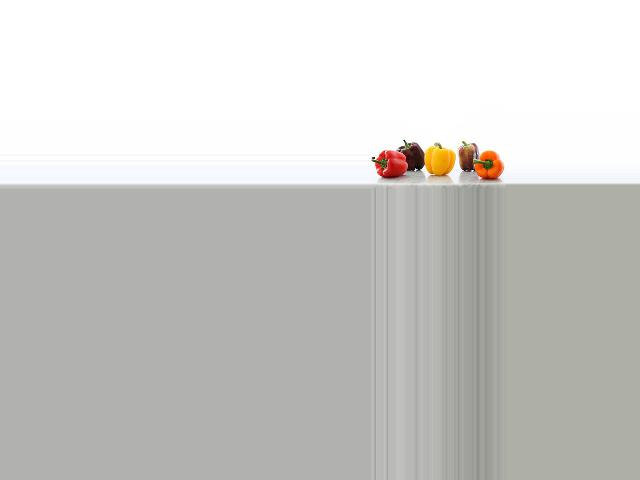bell_pepper: (472, 140, 504, 182)
